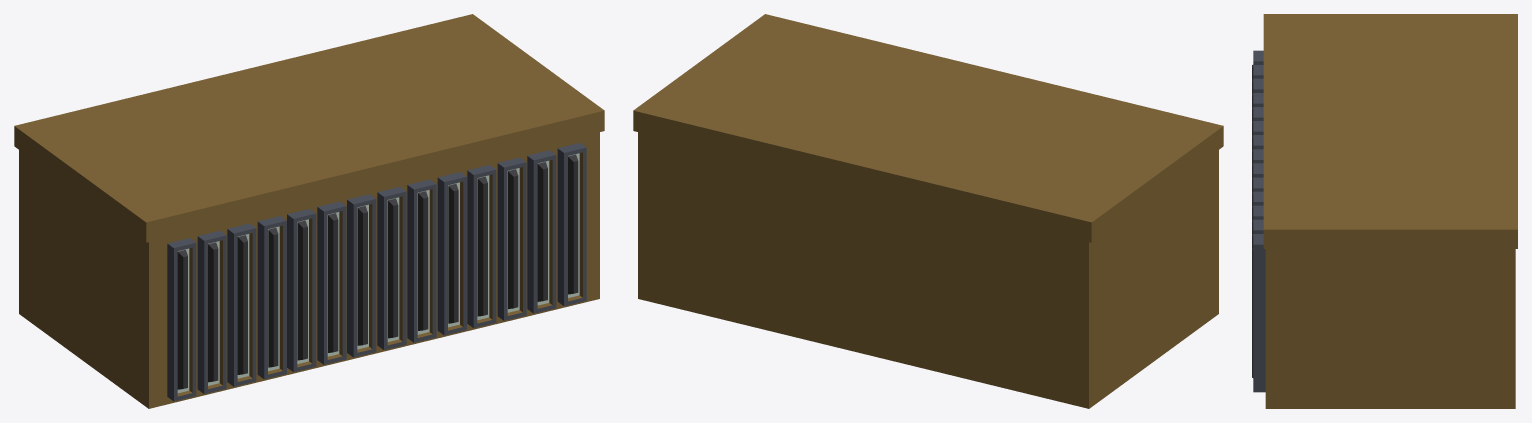
The model's file is HouseBlock5.fbx.
3 renders of one model, left to right at view 1: azimuth 30°, elevation 25°; view 2: azimuth 150°, elevation 25°; view 3: azimuth 270°, elevation 25°, orthographic. The views are drawn at different scales.
Visible parts, largest first — view 1: Cube.006; view 2: Cube.006; view 3: Cube.006.
Part boxes in pixels (bbox=[...]): Cube.006: bbox=[14, 14, 604, 408]; Cube.006: bbox=[633, 14, 1223, 408]; Cube.006: bbox=[1252, 14, 1517, 408].
Size of the model in its own units: 4057 by 1591 by 2115.
